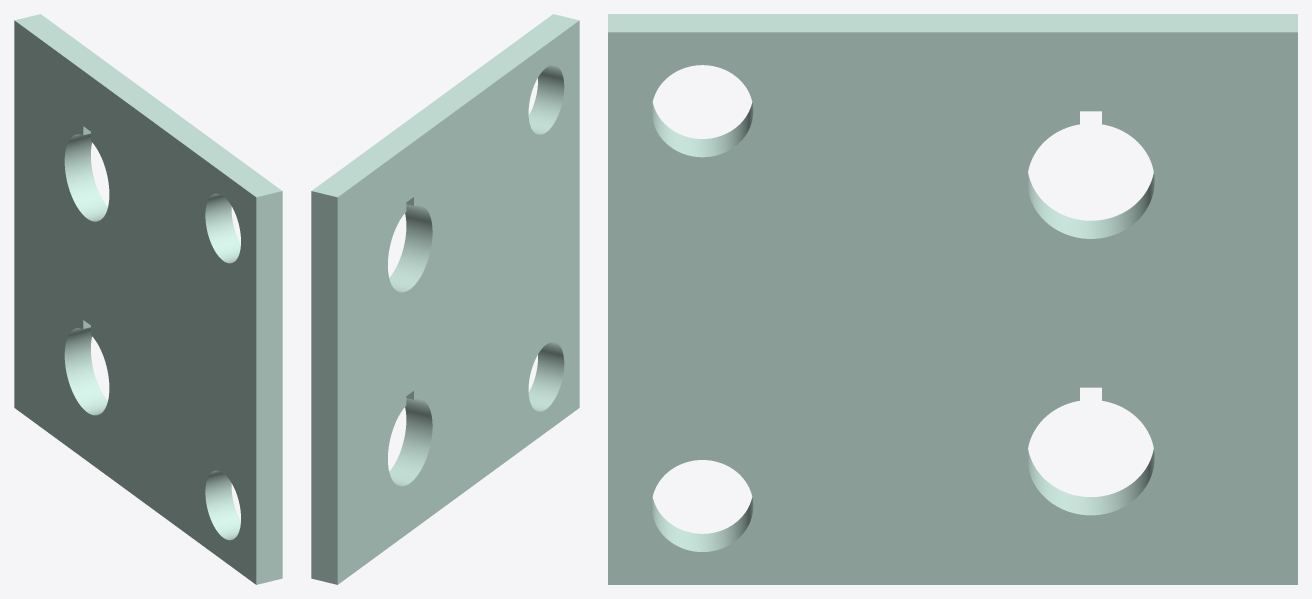
3 views of the same model, side by side, from view 1: azimuth 30°, elevation 25°; view 2: azimuth 150°, elevation 25°; view 3: azimuth 270°, elevation 25° (orthographic). The views are drawn at different scales.
Visible parts, largest first — view 1: Renderer Node; view 2: Renderer Node; view 3: Renderer Node.
Boxes of the visible parts, <box> form: Renderer Node: <box>14,14,282,584</box>; Renderer Node: <box>311,14,579,584</box>; Renderer Node: <box>608,14,1297,584</box>.
Size of the model in its own units: 0.0469 by 0.6632 by 0.75.
